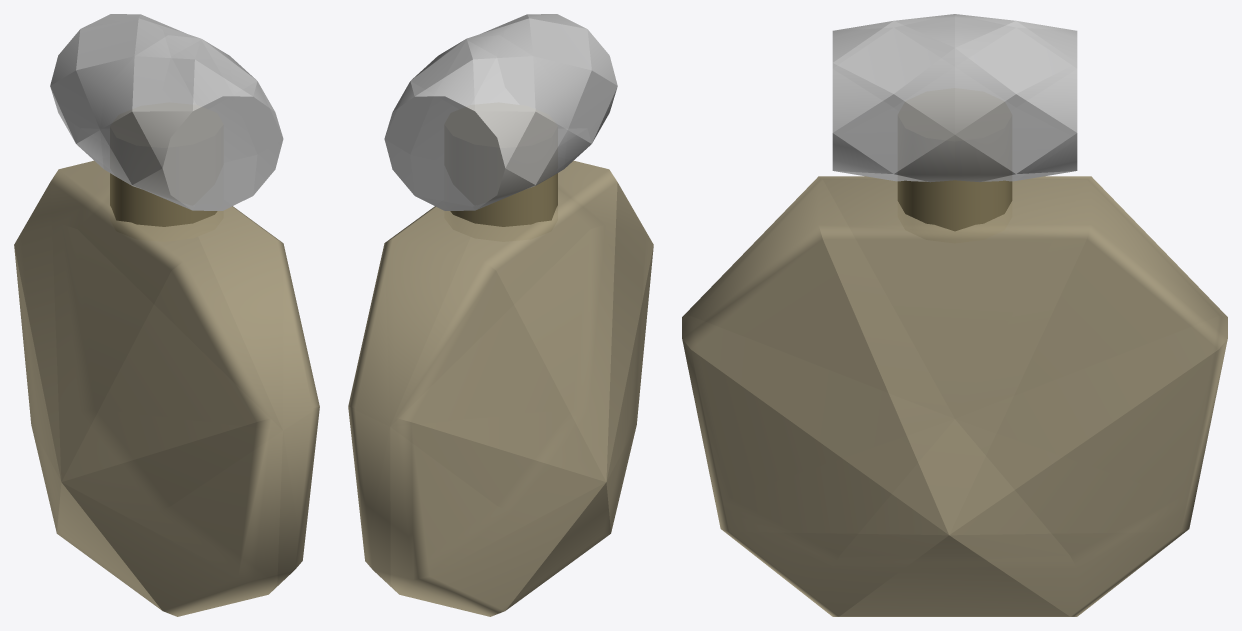
Rendered from perfume.fbx.
The picture shows the model from 3 angles, left to right: view 1: azimuth 30°, elevation 25°; view 2: azimuth 150°, elevation 25°; view 3: azimuth 270°, elevation 25°; orthographic projection. The views are drawn at different scales.
Parts seen in each view (by area): view 1: pCube5, pCylinder11, pCylinder8; view 2: pCube5, pCylinder11, pCylinder8; view 3: pCube5, pCylinder11, pCylinder8.
Boxes of the visible parts, x1,y1,x2,y2 form: pCube5: (14, 160, 319, 616); pCylinder11: (50, 14, 283, 210); pCylinder8: (110, 173, 222, 241); pCube5: (348, 160, 653, 616); pCylinder11: (384, 14, 617, 210); pCylinder8: (445, 173, 557, 241); pCube5: (682, 176, 1227, 616); pCylinder11: (832, 14, 1077, 182); pCylinder8: (897, 180, 1012, 242).
Bounding box in the file's own units: 1.25 × 2.88 × 2.48.
